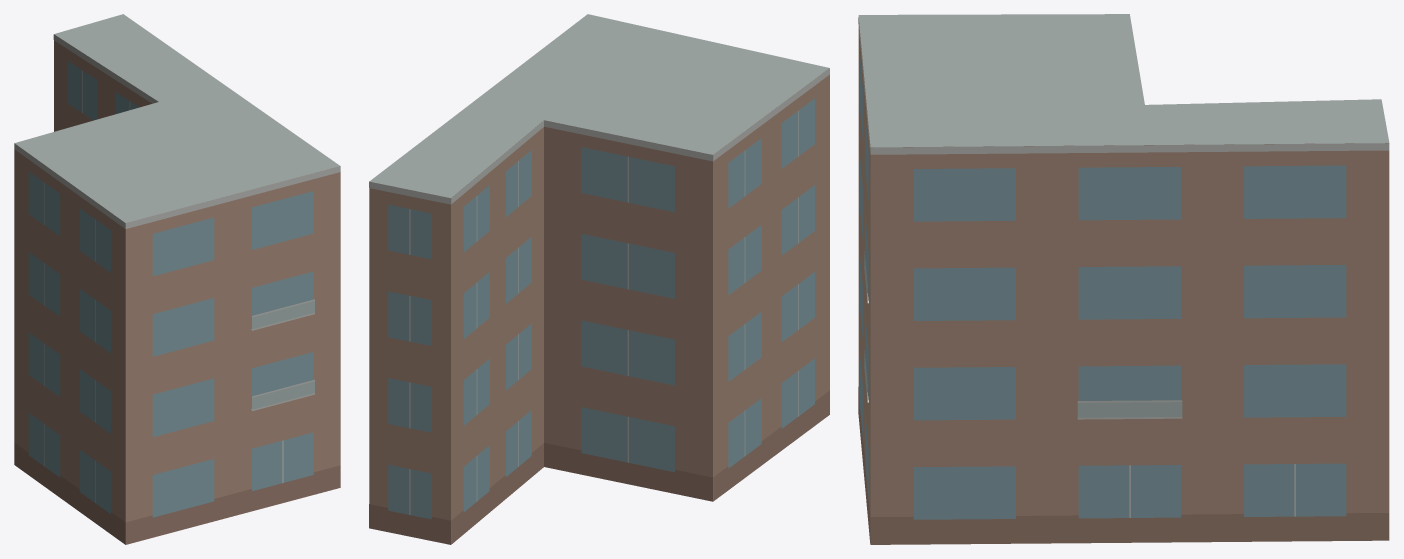
File: survey-upis-32472513.glb
3 views of the same model, side by side, from view 1: azimuth 30°, elevation 25°; view 2: azimuth 150°, elevation 25°; view 3: azimuth 270°, elevation 25° (orthographic). The views are drawn at different scales.
Visible parts, largest first — view 1: survey-upis-32472513.tmp; view 2: survey-upis-32472513.tmp; view 3: survey-upis-32472513.tmp.
Part boxes in pixels (<box>): survey-upis-32472513.tmp: <box>14,14,340,544</box>; survey-upis-32472513.tmp: <box>369,14,829,544</box>; survey-upis-32472513.tmp: <box>858,14,1389,544</box>.
Size of the model in its own units: 9.44 by 13.1 by 15.87.
